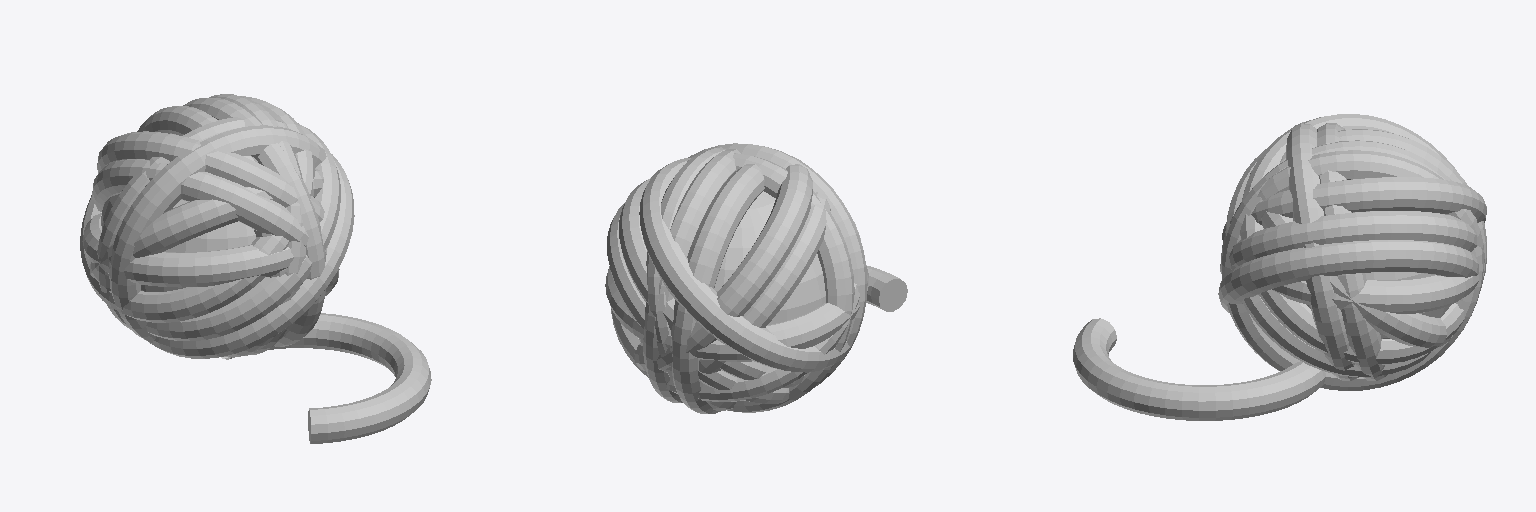
The model's file is Yarn Ball.obj.
3 renders of one model, left to right at view 1: azimuth 30°, elevation 25°; view 2: azimuth 150°, elevation 25°; view 3: azimuth 270°, elevation 25°, orthographic.
Parts seen in each view (by area): view 1: Yarn; view 2: Yarn; view 3: Yarn.
Part boxes in pixels (left/top/right/bottom): Yarn: left=80, top=94, right=431, bottom=443; Yarn: left=605, top=143, right=907, bottom=413; Yarn: left=1073, top=114, right=1486, bottom=420.
Bounding box in the file's own units: 2.43 × 2.32 × 3.64.